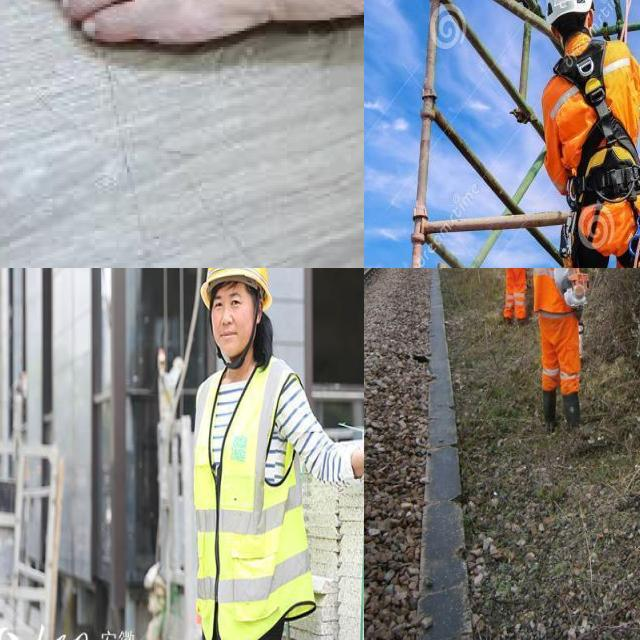Barefoots: (1, 0, 364, 67)
Harness: (554, 40, 640, 176), (588, 178, 640, 202)
face_nomask: (203, 283, 260, 365)
hand_noglove: (348, 417, 364, 481)
head_helmet: (198, 268, 267, 305)
person: (184, 268, 320, 640), (531, 268, 590, 428), (496, 268, 531, 329), (211, 292, 250, 314)
shoes: (536, 384, 558, 425), (565, 390, 581, 428)
vest: (185, 374, 327, 626), (530, 268, 579, 314)
